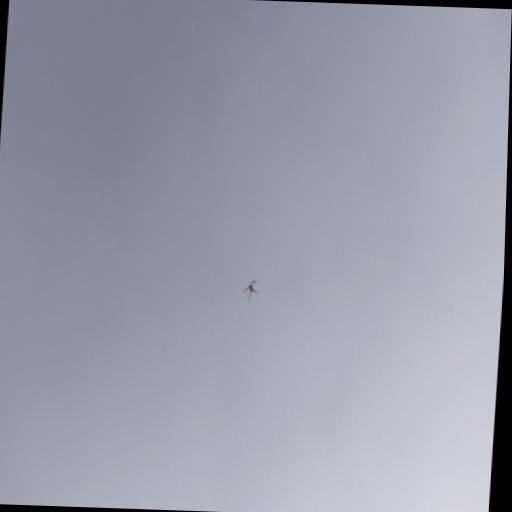drones: (242, 274, 259, 302)
